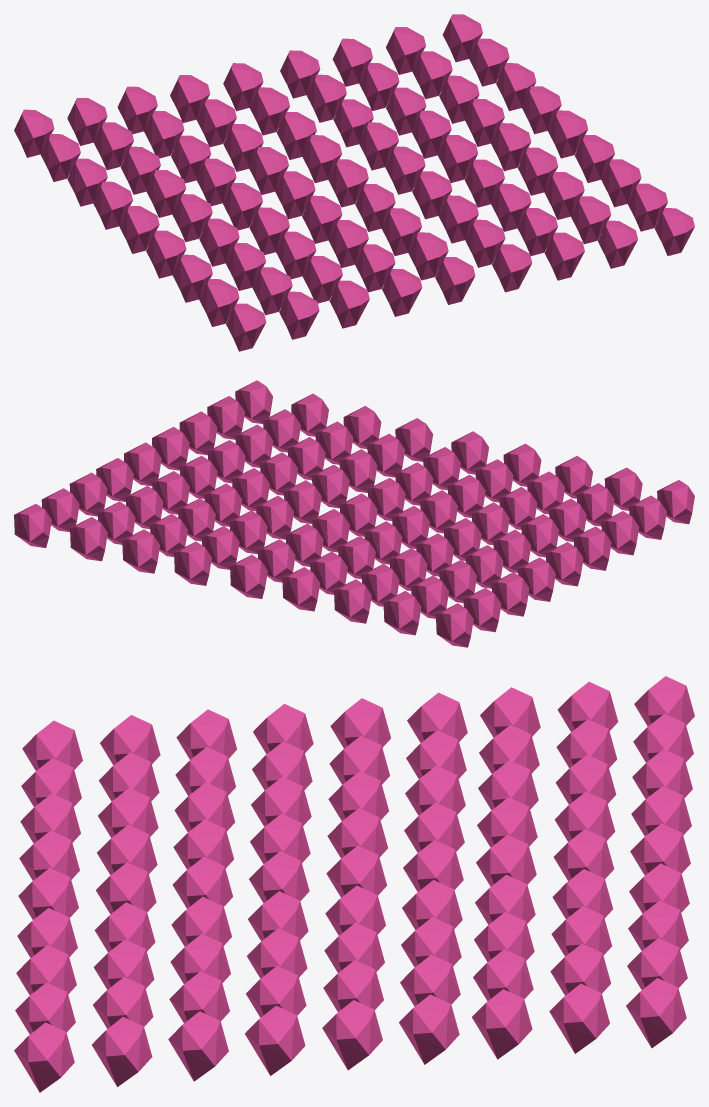
Rendered from Pink_Crystals.gltf.
3 renders of one model, top to bottom at view 1: azimuth 30°, elevation 25°; view 2: azimuth 150°, elevation 25°; view 3: azimuth 270°, elevation 25°, orthographic. The views are drawn at different scales.
Visible parts, largest first — view 1: Icosphere.066; view 2: Icosphere.066; view 3: Icosphere.066.
Part boxes in pixels (x1,y1,x2,y2): Icosphere.066: (14,14,694,351); Icosphere.066: (14,380,694,647); Icosphere.066: (14,676,694,1092).
Bounding box in the file's own units: 27.72 × 4.69 × 24.96.
